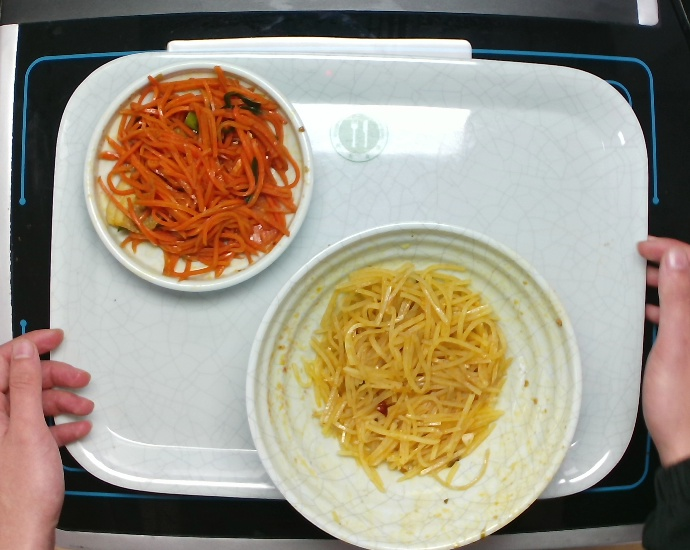JYsf-Da_Tang_Wan: (237, 214, 590, 550)
JYsf-Xiao_Yuan_Pan: (76, 58, 319, 298)
